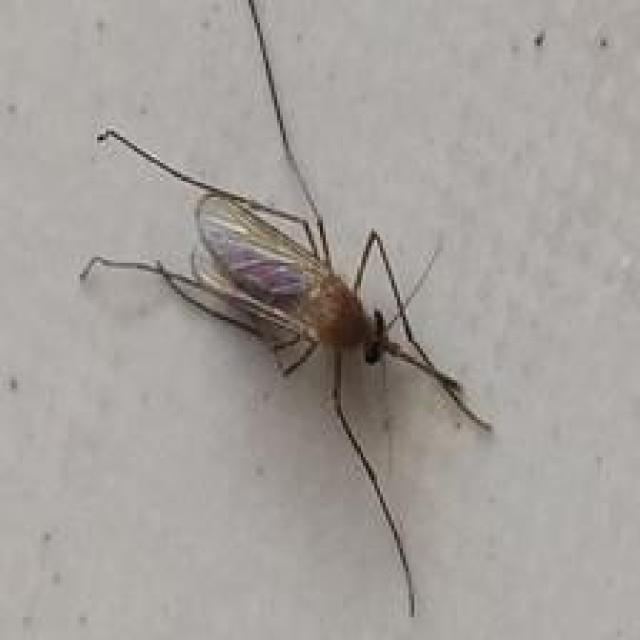Culex: (77, 0, 494, 617)
